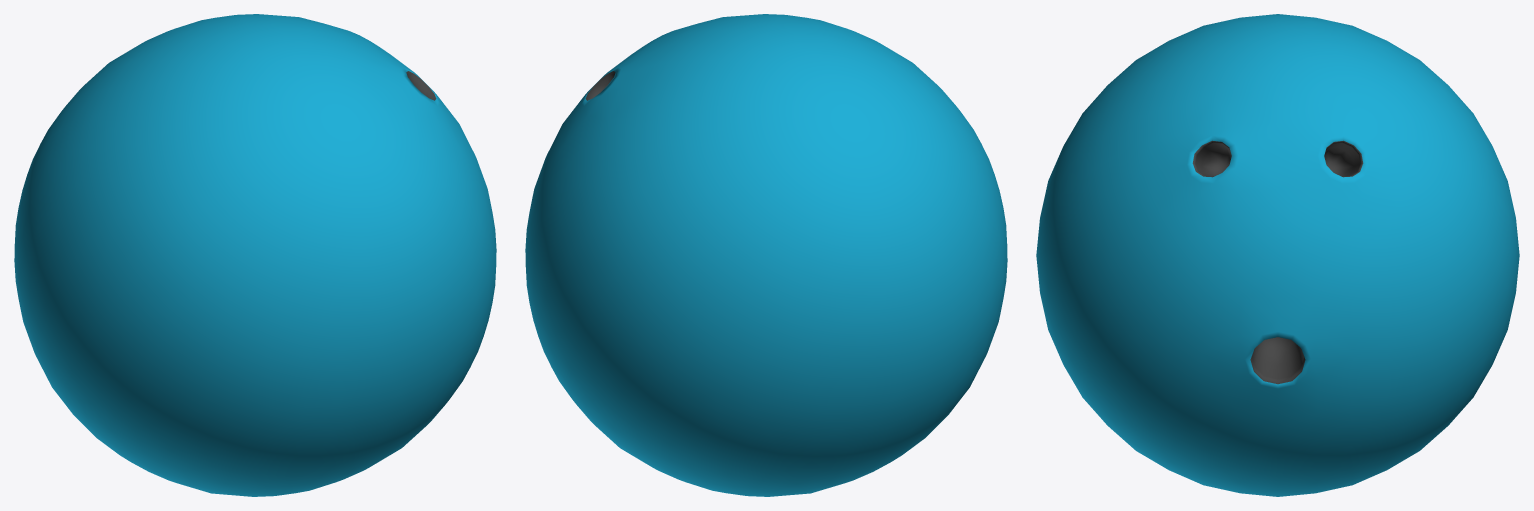
The model's file is bowling ball.fbx.
The picture shows the model from 3 angles, left to right: view 1: azimuth 30°, elevation 25°; view 2: azimuth 150°, elevation 25°; view 3: azimuth 270°, elevation 25°; orthographic projection.
Visible parts, largest first — view 1: Icosphere; view 2: Icosphere; view 3: Icosphere.
Part boxes in pixels (x1=…): Icosphere: x1=14, y1=14, x2=496, y2=496; Icosphere: x1=525, y1=14, x2=1007, y2=496; Icosphere: x1=1036, y1=14, x2=1519, y2=496.
Bounding box in the file's own units: 198 × 198 × 197.
